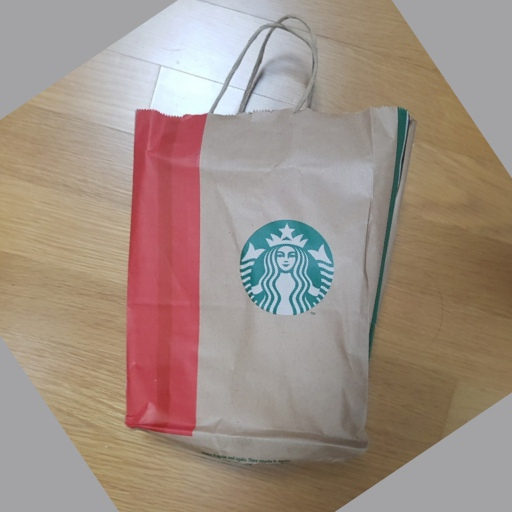Paper_0: (121, 98, 416, 472)
